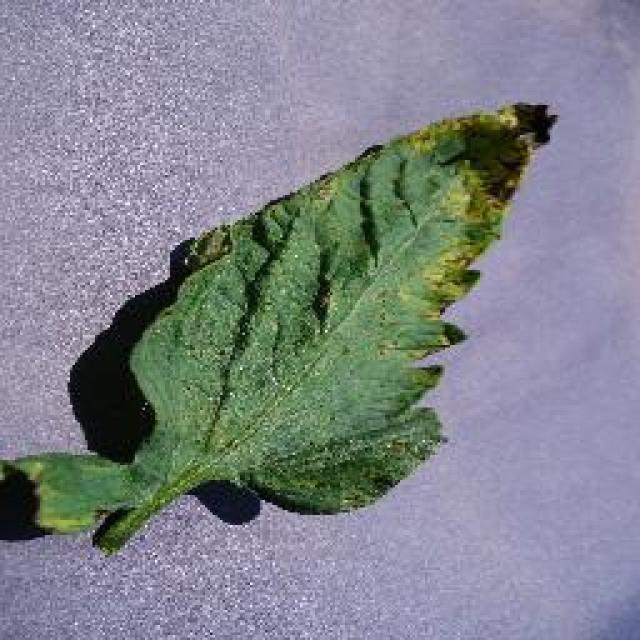Tomato___Septoria_leaf_spot: (0, 102, 552, 552)
